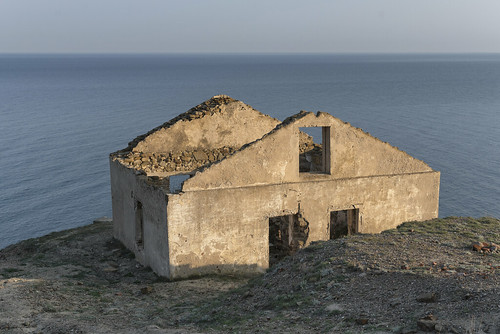building: (113, 97, 447, 281)
dirt: (1, 213, 492, 334)
sea: (1, 54, 485, 212)
sky: (1, 1, 500, 51)
